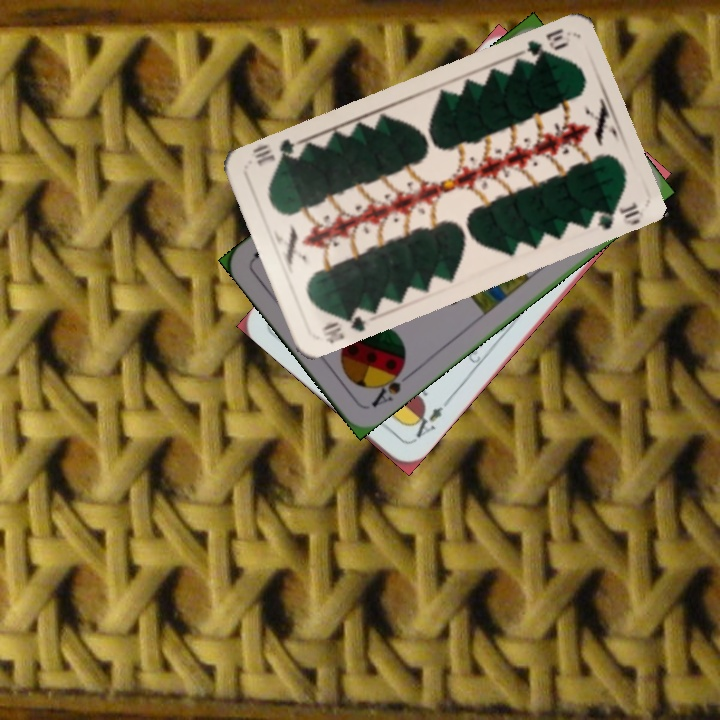EA: (405, 402, 446, 445)
G10: (514, 24, 571, 65), (318, 306, 369, 346)
SA: (367, 360, 415, 411)
